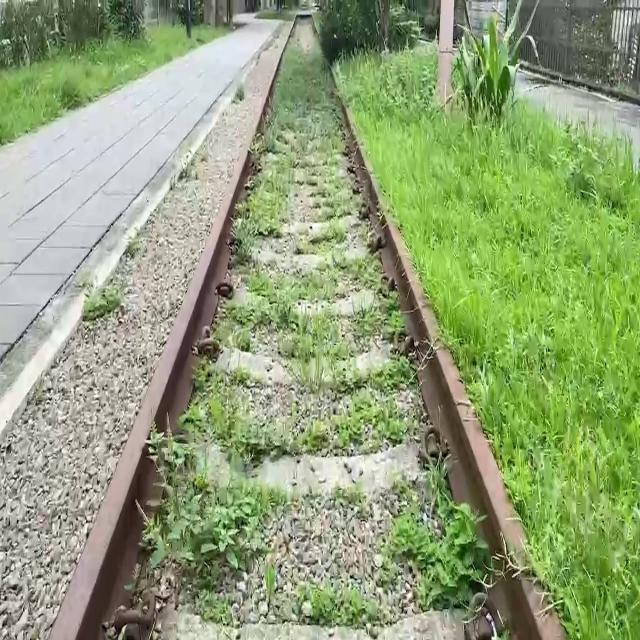rail-track: (141, 18, 488, 626)
